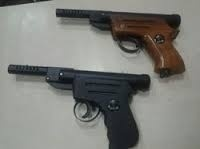pistol: (6, 64, 157, 147), (54, 7, 192, 83)
